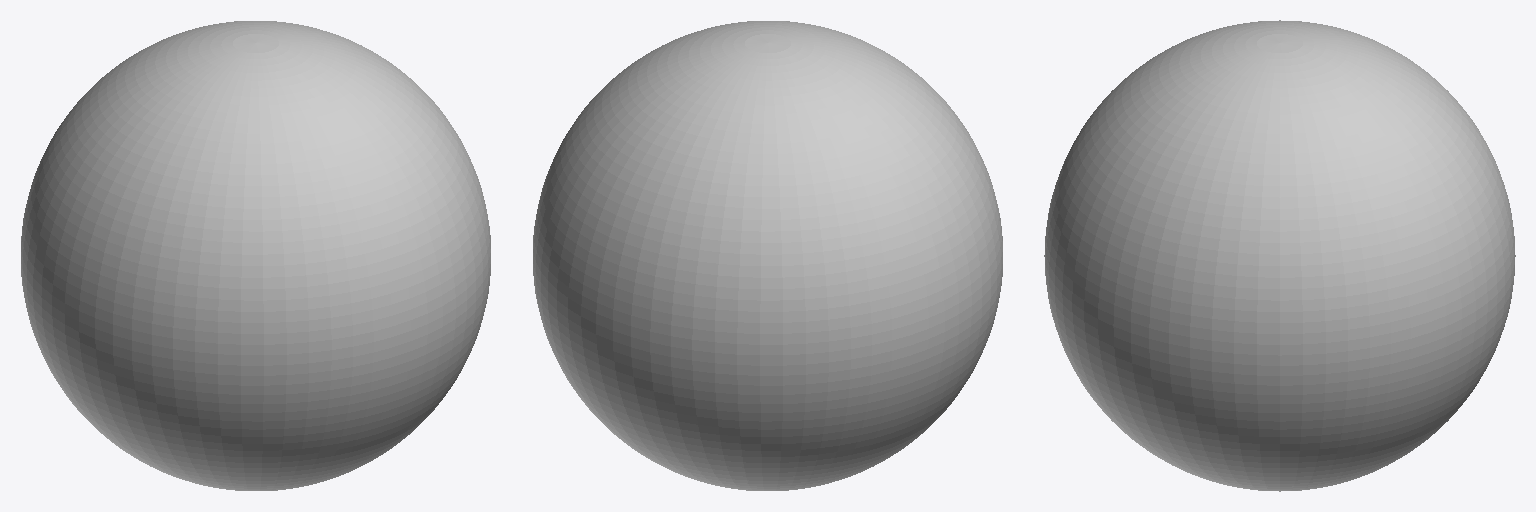
Rendered from globe.obj.
The picture shows the model from 3 angles: view 1: azimuth 30°, elevation 25°; view 2: azimuth 150°, elevation 25°; view 3: azimuth 270°, elevation 25°; orthographic projection.
Visible parts, largest first — view 1: Sphere; view 2: Sphere; view 3: Sphere.
Boxes of the visible parts, x1,y1,x2,y2 form: Sphere: [21, 21, 490, 490]; Sphere: [533, 21, 1002, 490]; Sphere: [1044, 20, 1515, 491].
Size of the model in its own units: 8.64 by 8.63 by 8.64.